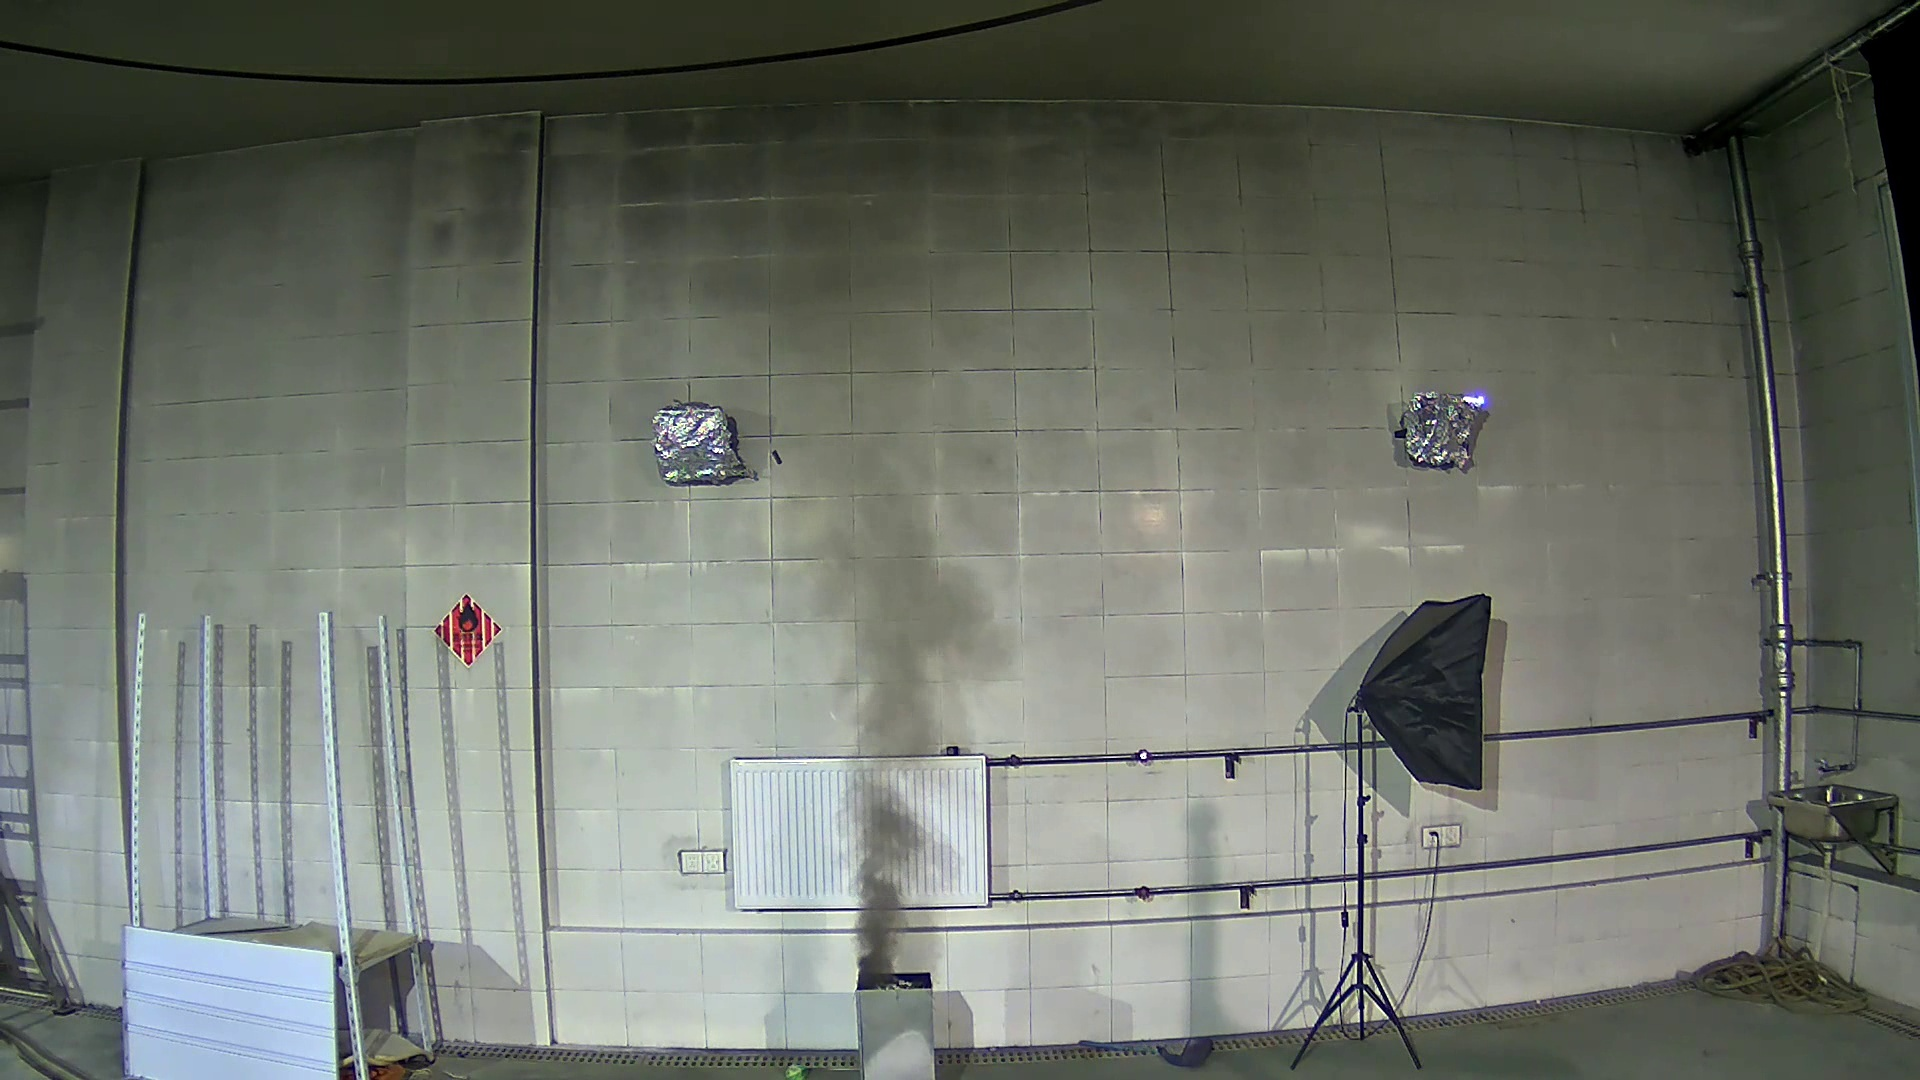smoke: (783, 401, 1017, 976)
